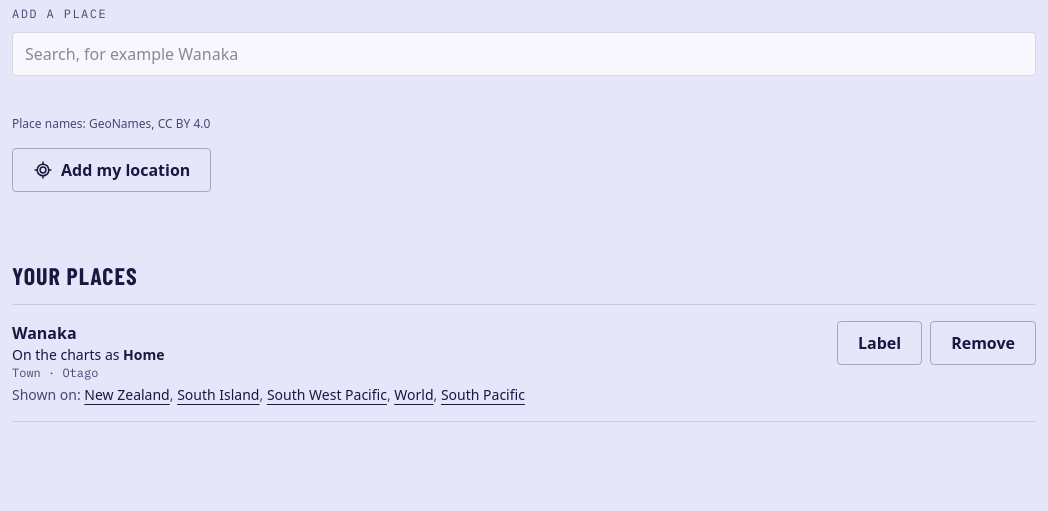
<PinsPage /> › labelling › starts with the current label, if there is one
Click the button with aria-label "Label Wanaka": click(880, 343) [837,321,922,365]
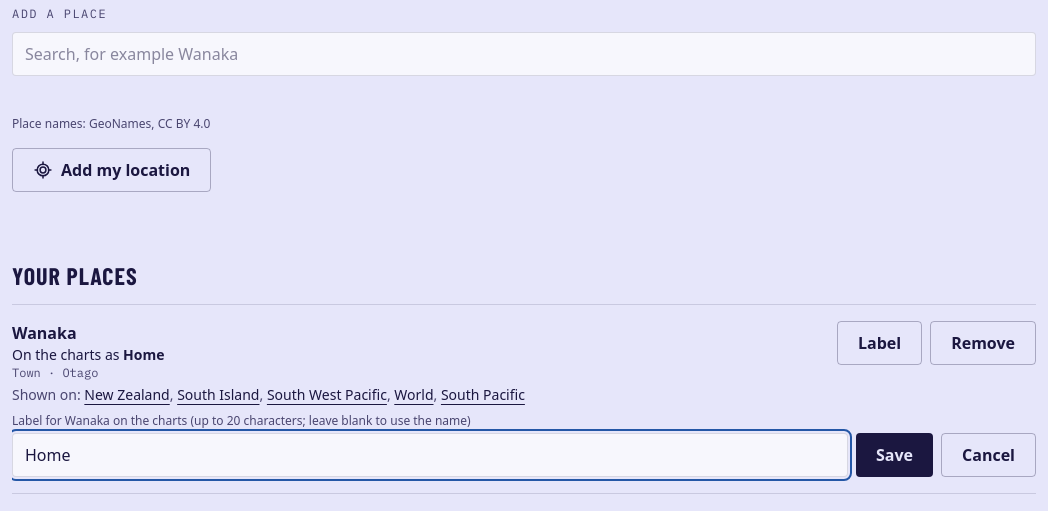
Check: the field labelled "Label for Wanaka on the charts" holds "Home", box [12,433,848,477]
